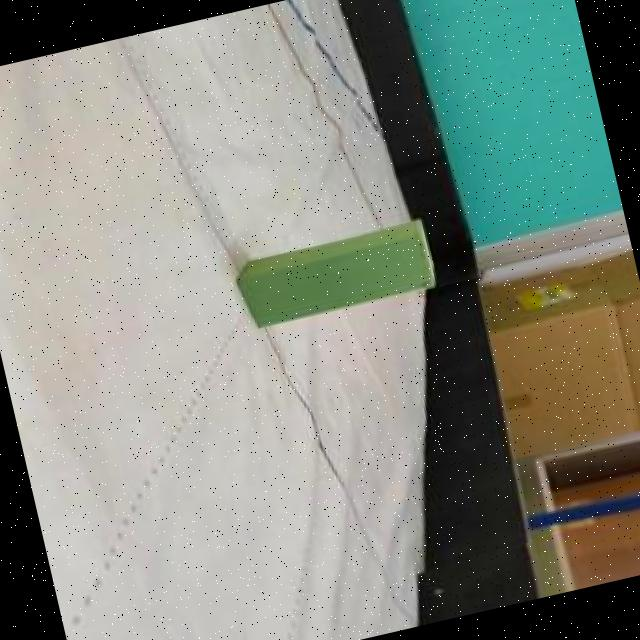greenbox: (230, 214, 440, 333)
